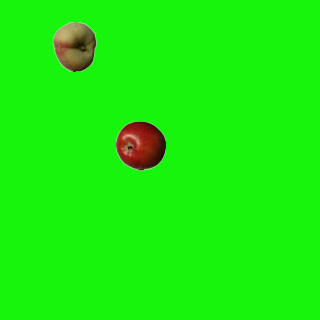Apple Braeburn: (115, 120, 165, 170)
Peach Flat: (49, 21, 99, 71)
